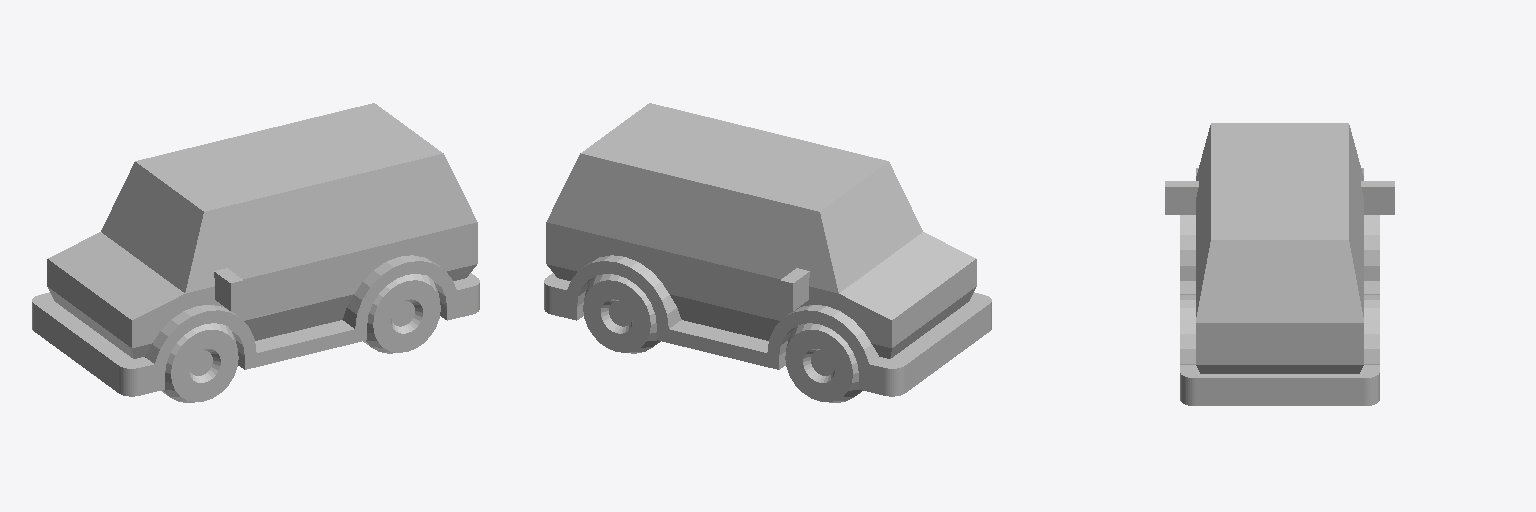
Rendered from van.obj.
The picture shows the model from 3 angles: view 1: azimuth 30°, elevation 25°; view 2: azimuth 150°, elevation 25°; view 3: azimuth 270°, elevation 25°; orthographic projection.
Visible parts, largest first — view 1: body, wheel_backLeft, wheel_frontLeft; view 2: body, wheel_backRight, wheel_frontRight; view 3: body.
Part boxes in pixels (x1,y1,x2,y2): body: (32,103,479,396); wheel_backLeft: (363,274,440,353); wheel_frontLeft: (161,323,238,402); body: (544,103,991,396); wheel_backRight: (583,274,660,353); wheel_frontRight: (785,323,862,402); body: (1165,123,1394,405).
Bounding box in the file's own units: 2.02 × 0.975 × 1.12.